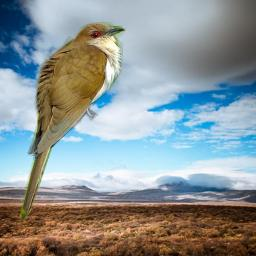Cuckoo: (18, 22, 126, 222)
